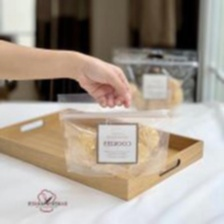snack: (52, 84, 178, 182), (106, 41, 205, 122)
